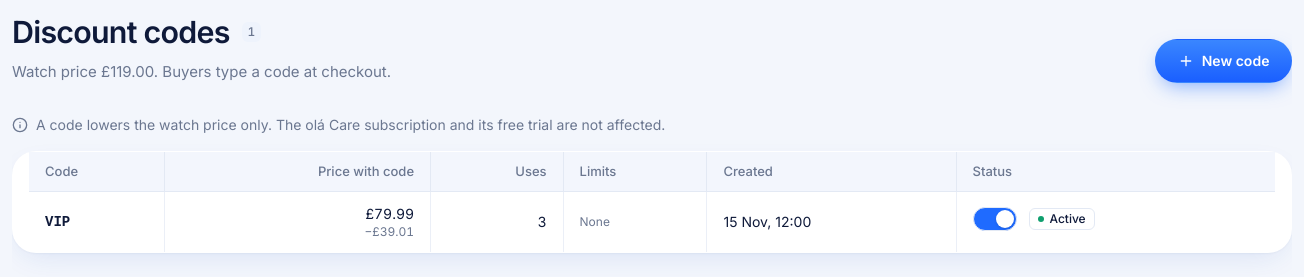
Test: DiscountsPage › switches a code off
Click the switch at (994, 219), box left=972, top=207, right=1016, bottom=231
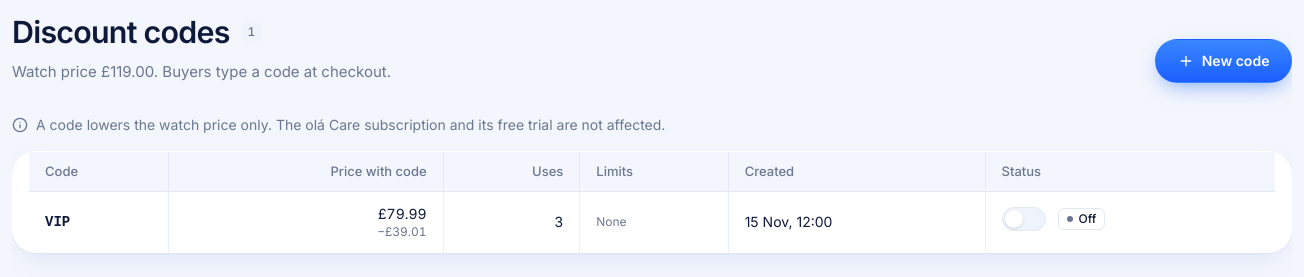
Expected: the text "Off" is shown, left=1058, top=208, right=1105, bottom=230
